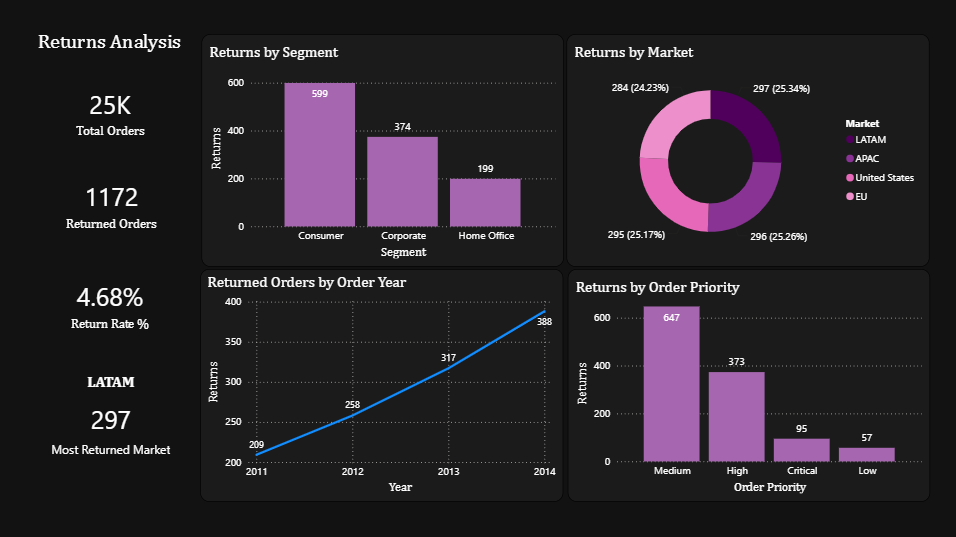

The page's visual inventory and layout, read from the dashboard file:
{"tool":"powerbi","page":{"name":"Order Returns Analysis","canvas":[1280,720],"ordinal":2},"visuals":[{"type":"card","fields":{"Values":["Orders.Returned Orders"]},"box":[75,223.3,150,101.7],"z":0},{"type":"card","fields":{"Values":["Orders.Return Rate %"]},"box":[73.3,356.7,150,101.7],"z":1000},{"type":"lineChart","title":"Returned Orders by Order Year","fields":{"Y":["CountNonNull(Returns.Order ID)"],"Category":["Returns.Year"]},"box":[267.6,359.5,484.4,310.1],"z":2000},{"type":"cardVisual","fields":{"Data":["CountNonNull(Returns.Returned)"],"Rows":["Returns.Market"]},"box":[46.7,478.3,205,155],"z":3000},{"type":"donutChart","title":"Returns by Market","fields":{"Category":["Returns.Market"],"Y":["CountNonNull(Returns.Returned)"]},"box":[757.1,47.1,484.3,310],"z":4000},{"type":"card","fields":{"Values":["Orders.T.Orders"]},"box":[73.3,100,150,101.7],"z":5000},{"type":"clusteredColumnChart","title":"Returns by Order Priority","fields":{"Y":["Count(Returns.Order ID)"],"Category":["Returns.Orders.Order Priority"]},"box":[758.3,360,483.3,310],"z":6000},{"type":"clusteredColumnChart","title":"Returns by Segment","fields":{"Y":["CountNonNull(Returns.Order ID)"],"Category":["Returns.Orders.Segment"]},"box":[270,46.7,483.3,310],"z":7000},{"type":"textbox","box":[46.7,35,203.3,51.7],"z":7001}]}

Visuals, with their boxes in screenshot pixels (x1, y1, x2, y2), scaled from the page's 1280x720 canvas onto the 956x537 screenshot:
card - Orders.Returned Orders: <region>56, 167, 168, 242</region>
card - Orders.Return Rate %: <region>55, 266, 167, 342</region>
"Returned Orders by Order Year" lineChart: <region>200, 268, 562, 499</region>
cardVisual - CountNonNull(Returns.Returned) x Returns.Market: <region>35, 357, 188, 472</region>
"Returns by Market" donutChart: <region>565, 35, 927, 266</region>
card - Orders.T.Orders: <region>55, 75, 167, 150</region>
"Returns by Order Priority" clusteredColumnChart: <region>566, 268, 927, 500</region>
"Returns by Segment" clusteredColumnChart: <region>202, 35, 563, 266</region>
textbox: <region>35, 26, 187, 65</region>
